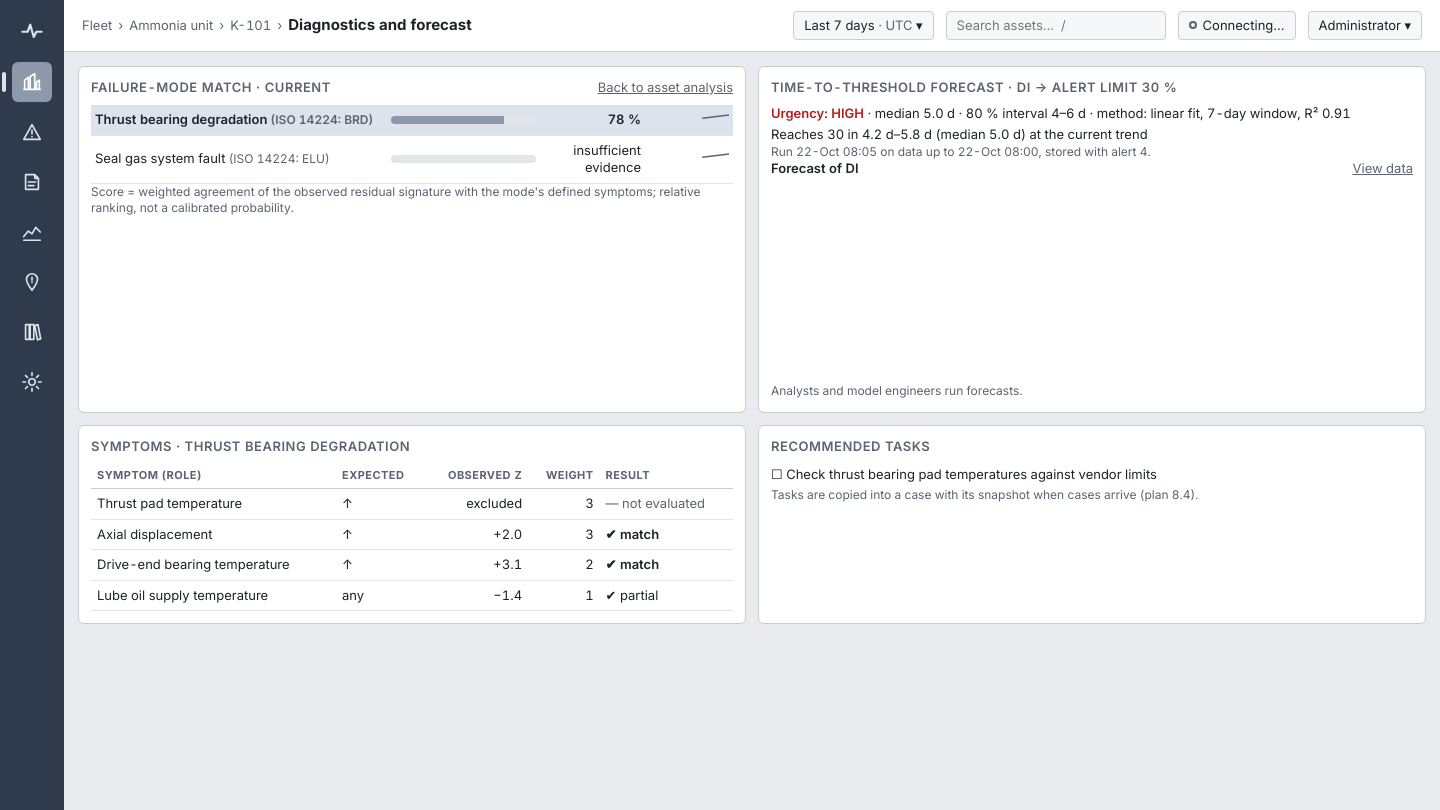
Test: SCR-04 diagnostics › ranks the modes and shows the chosen mode's symptoms and tasks
The image size is (1440, 810).
Expected: the text "relative ranking, not a calibrated probability" is shown, [91,184,700,215]
Expected: the text "Thrust pad temperature" shows "excluded", [466,495,522,511]
Step 1. Click the button "Seal gas system fault (ISO 14224: ELU) insufficient evidence" → {"x": 412, "y": 160}, box [91,136,733,184]
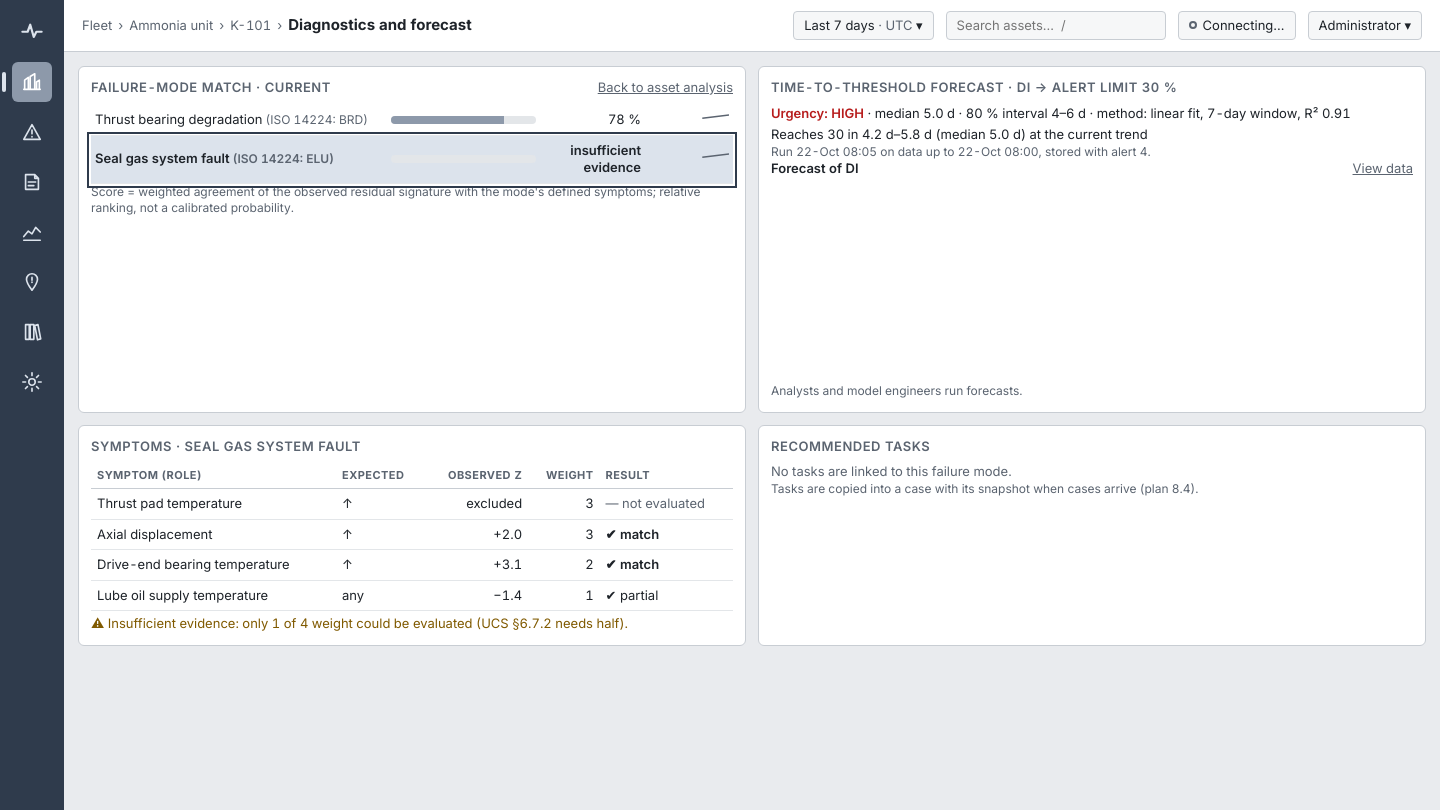
Now the text "Insufficient evidence: only 1 of 4 weight" is shown, box [91,615,628,631]
Now the text "No tasks are linked to this failure mode." is shown, box [771,463,1012,479]
